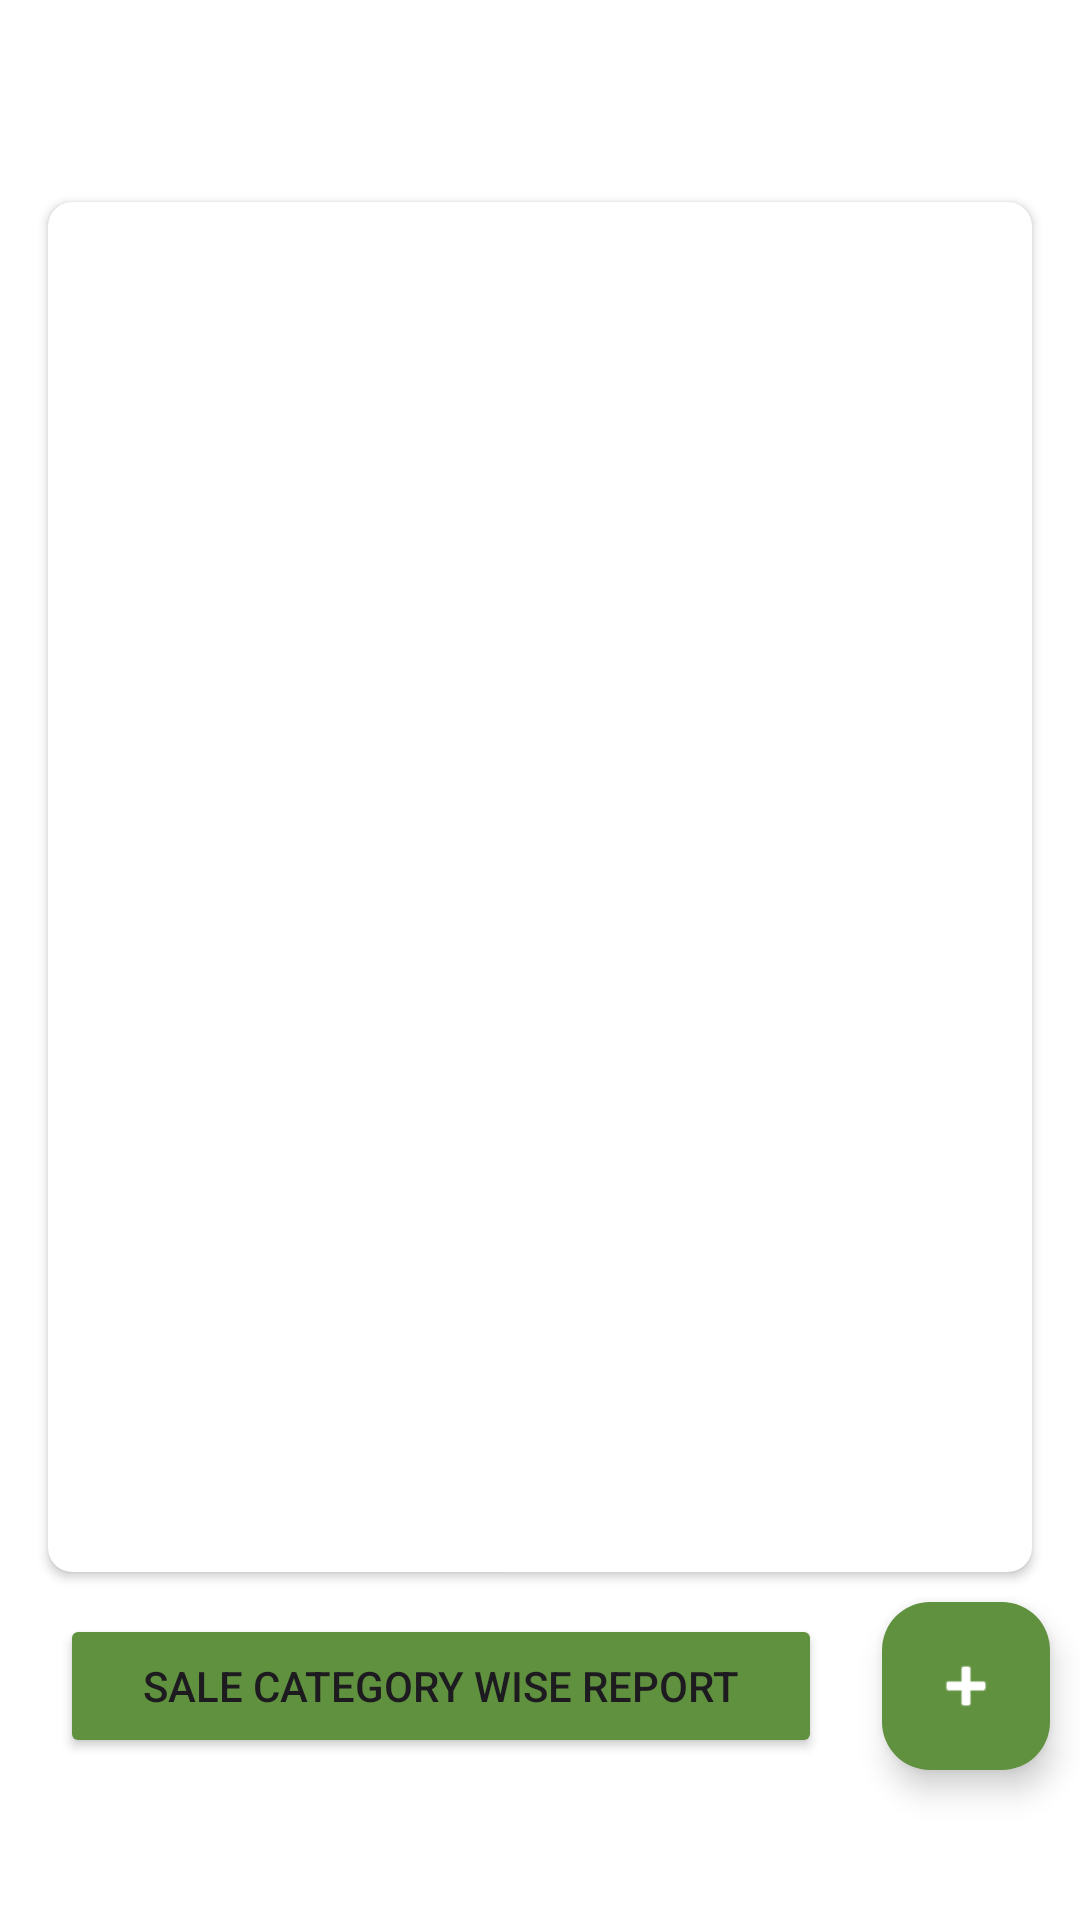

Icon bounding boxes for this 1080px×1920px phone screenshot, format [x1, y1, x2, y2]:
Add Sale: [882, 1602, 1050, 1770]
